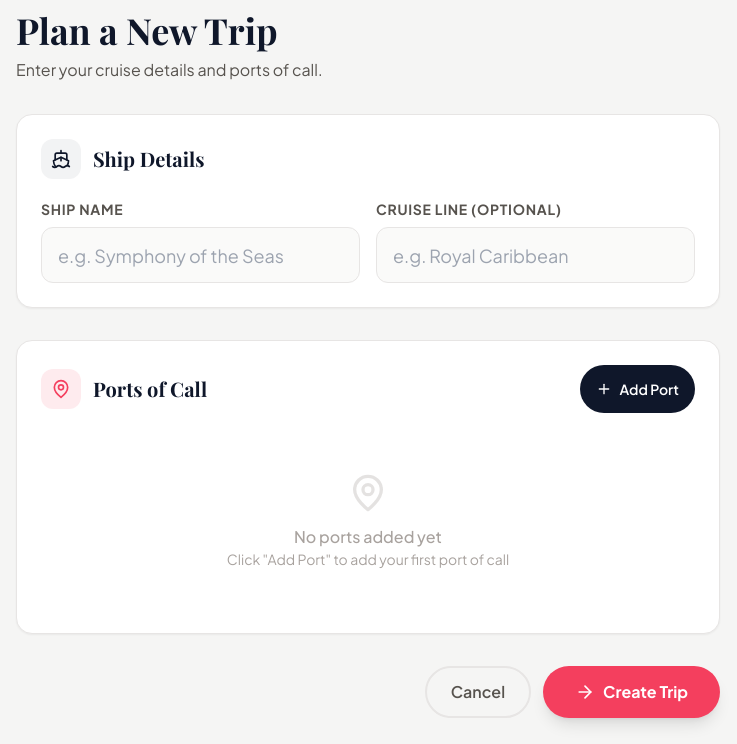
Test: TripSetup — cruise line autocomplete › filters suggestions based on typed text
Type "Royal" into the field with test id "cruise-line-input" at (536, 255), box [376,227,695,283]
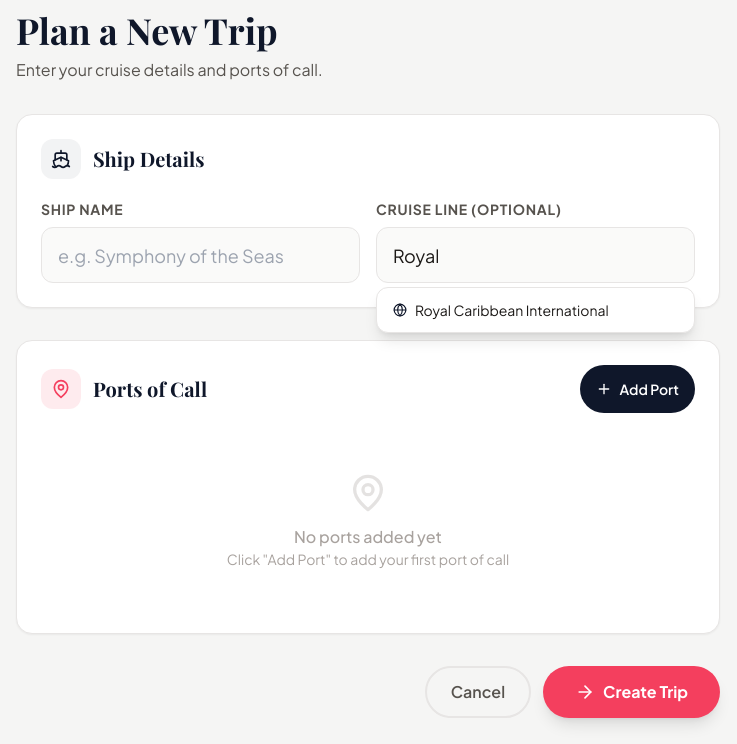
Result: the button "Royal Caribbean International" is shown at [377,288,694,332]
